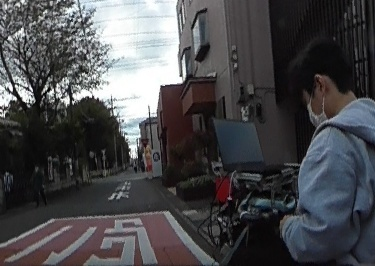person: (282, 34, 375, 266), (32, 163, 48, 205)
